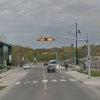Crosswalk: (12, 78, 92, 96)
